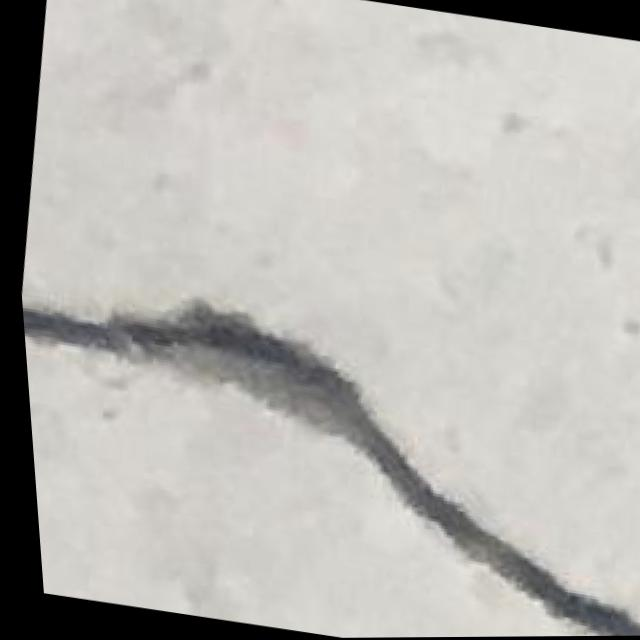Crack: (15, 253, 640, 640)
